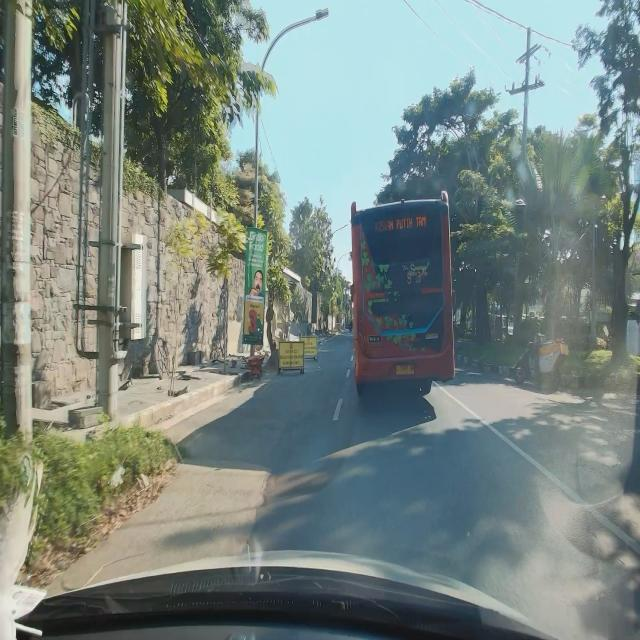bus: (348, 189, 456, 400)
license-plate: (395, 364, 415, 376)
